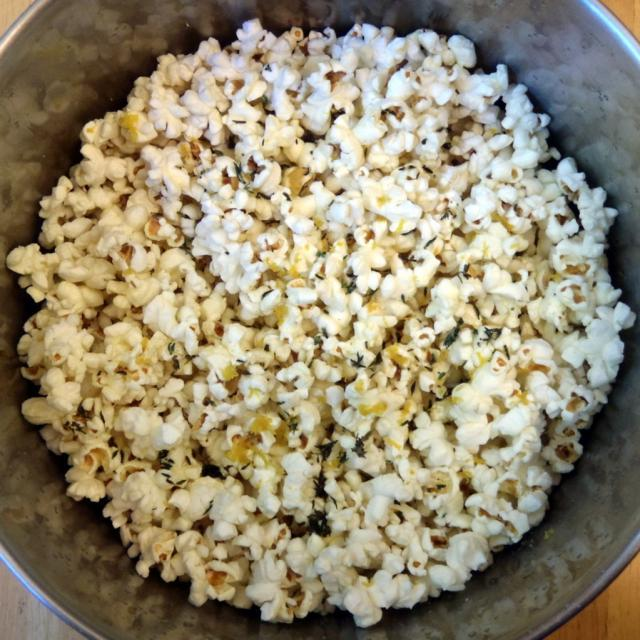Popcorn: (5, 14, 636, 628)
